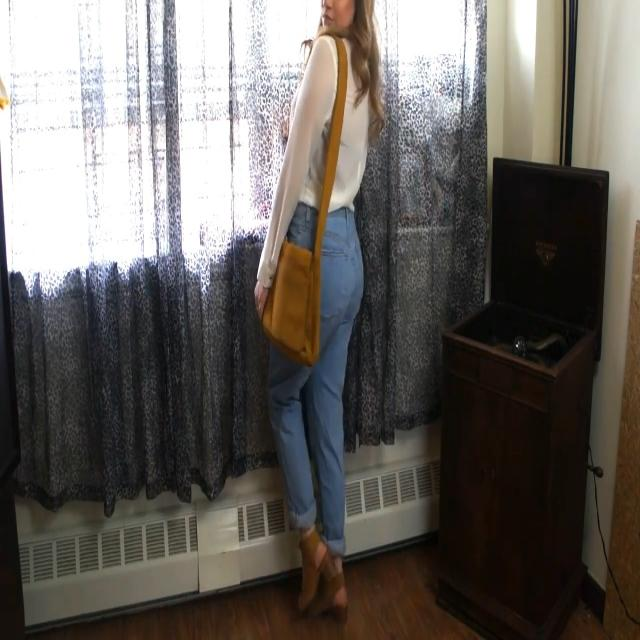Shirt: (256, 32, 372, 291)
